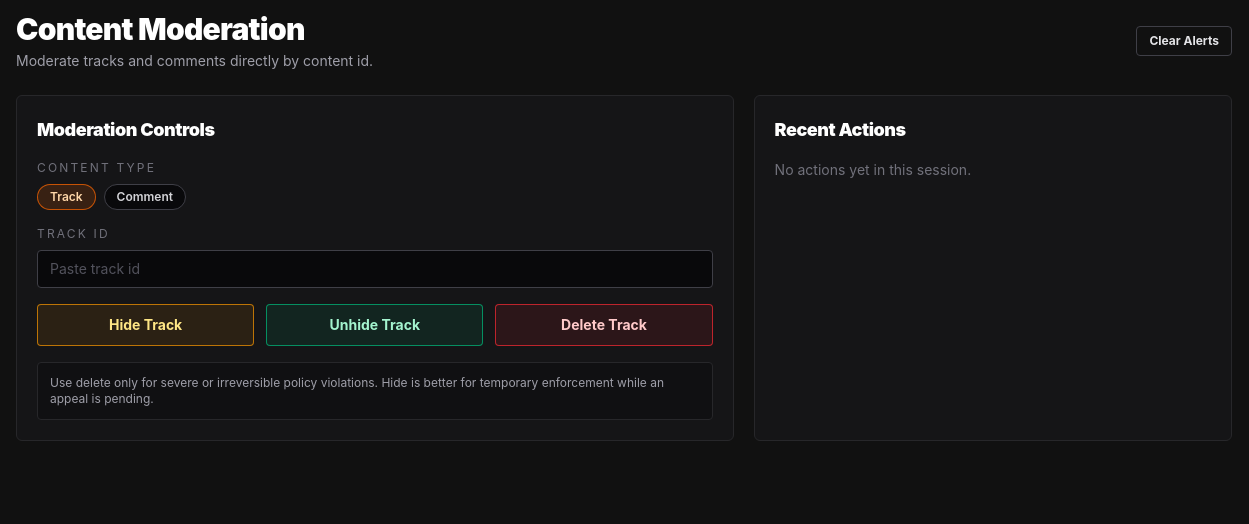
it: AdminContentPage › runs a content moderation action and logs it
Type "track-77" into the field with placeholder "Paste track id" at (375, 269), box [37,250,713,288]
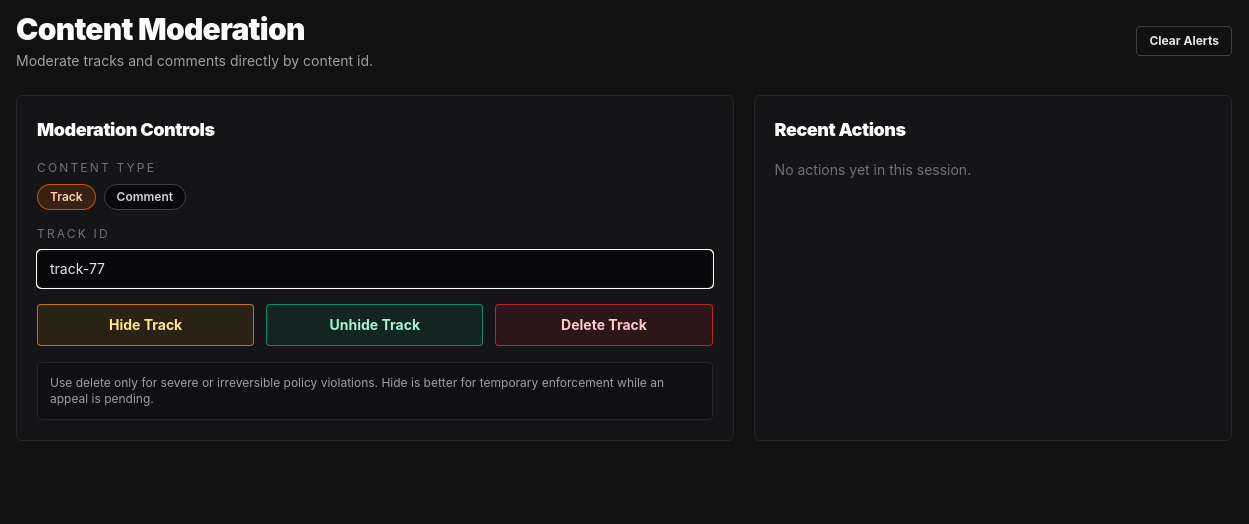
Click the button "Hide Track" at (146, 325), box [37,304,254,346]
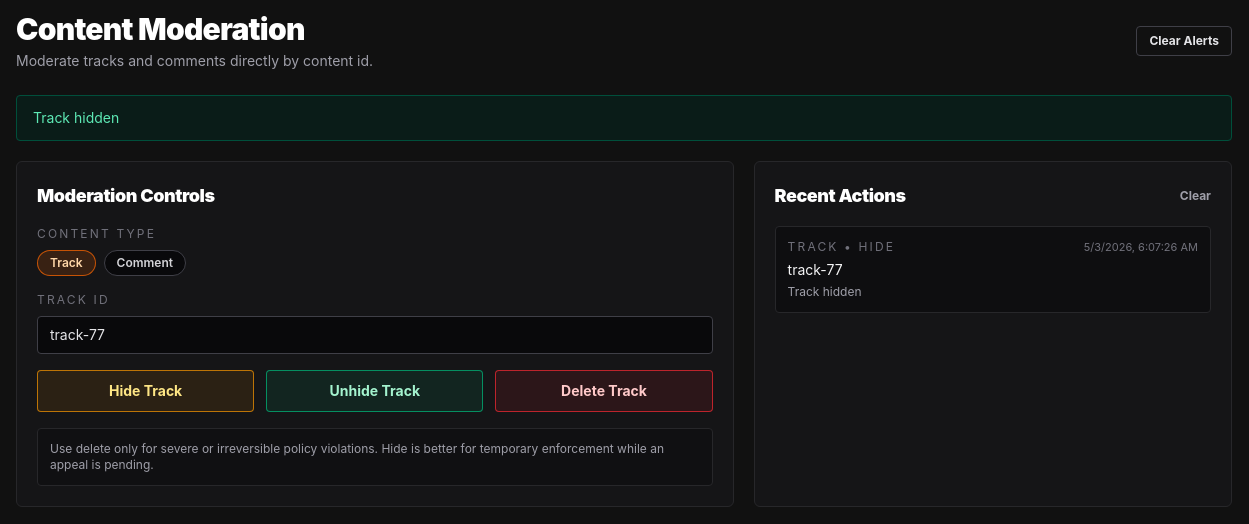
Now the text "track-77" is shown, box [788,260,843,278]
Now the text "TRACK • HIDE" is shown, box [788,239,895,255]
